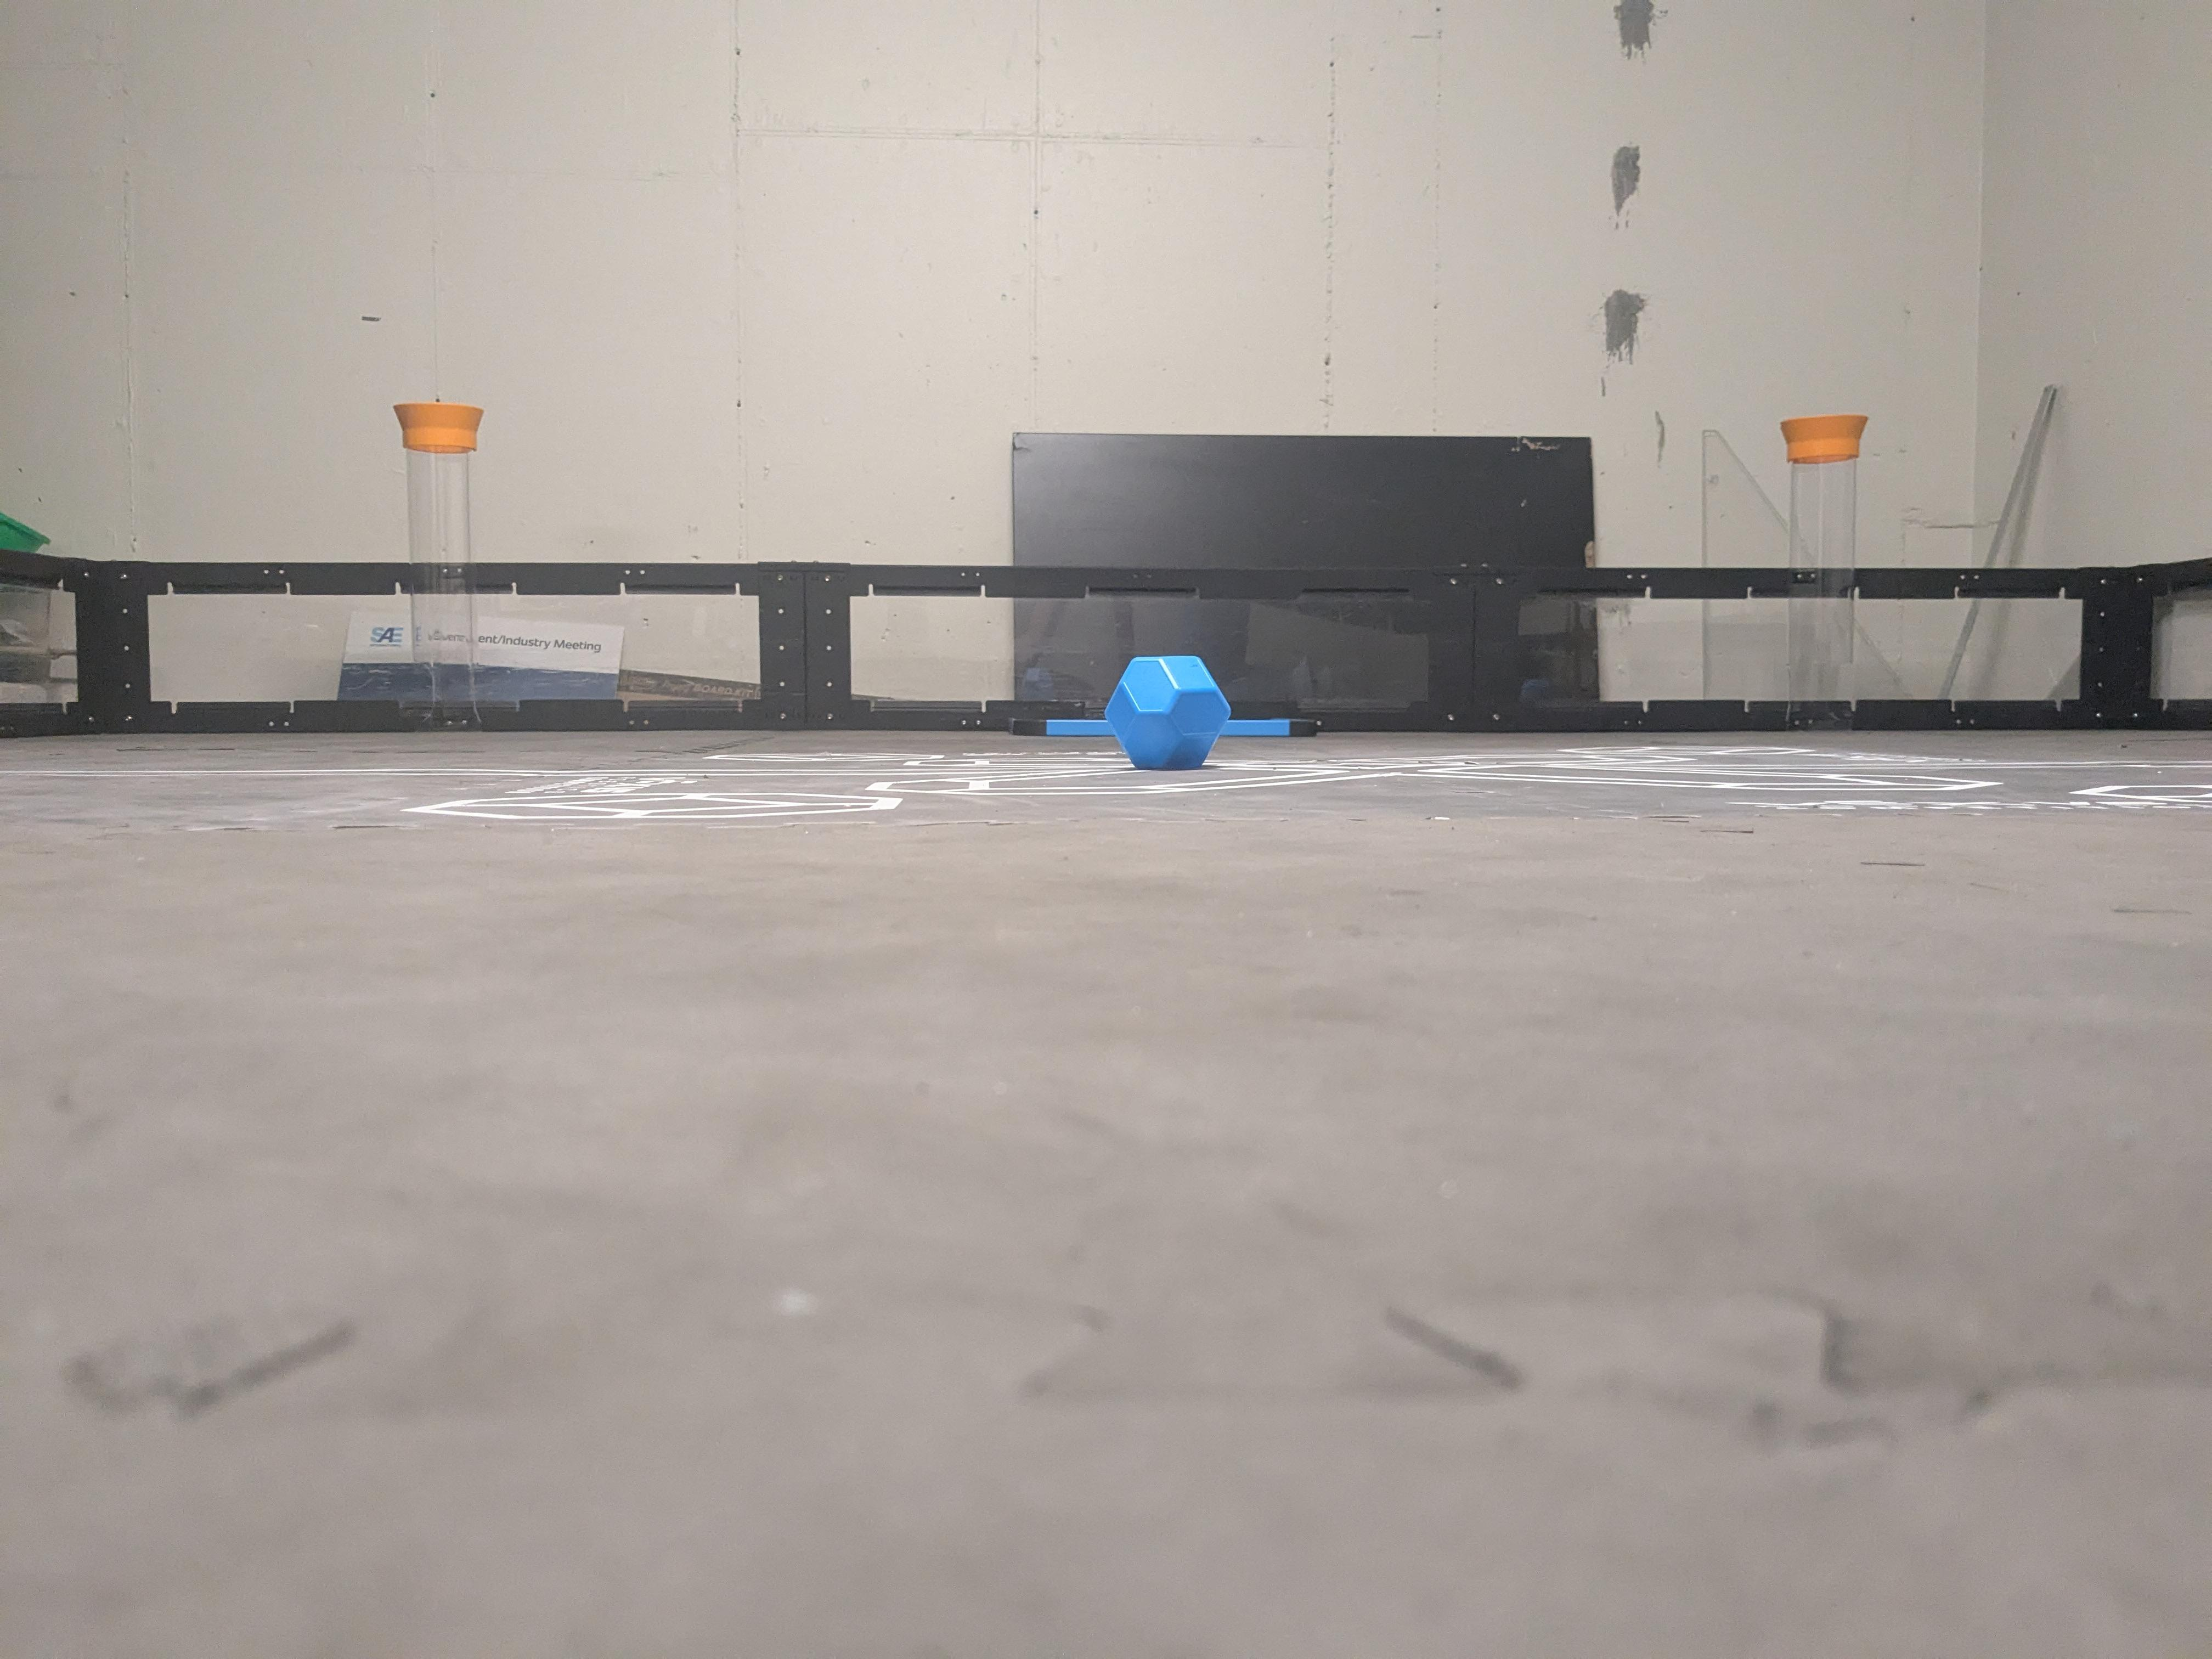Vex-Pieces-BLUE: (1113, 655, 1223, 765)
